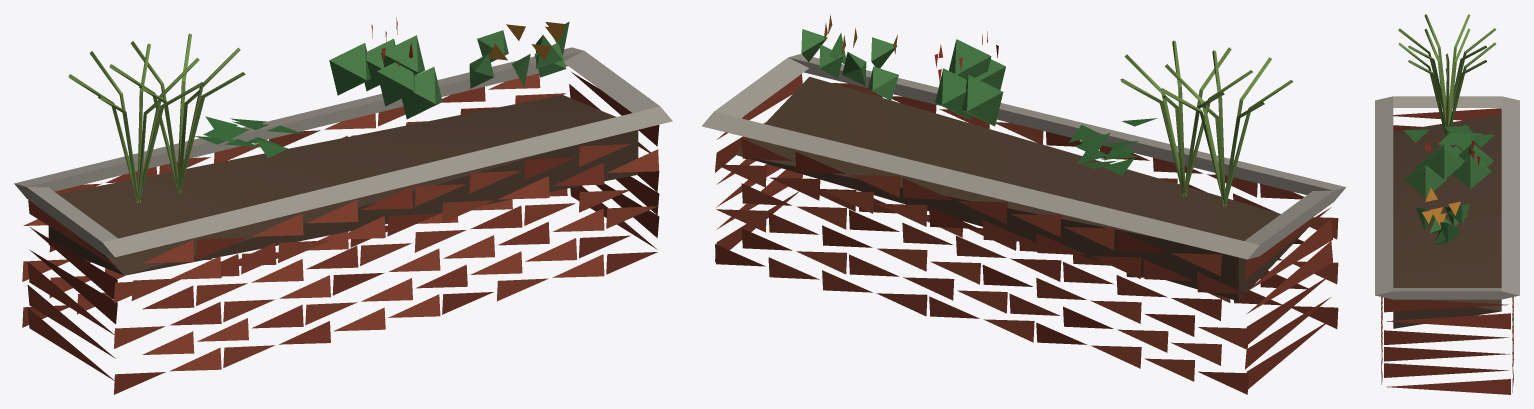
The model's file is bon_kieng.glb.
3 views of the same model, side by side, from view 1: azimuth 30°, elevation 25°; view 2: azimuth 150°, elevation 25°; view 3: azimuth 270°, elevation 25° (orthographic). The views are drawn at different scales.
Visible parts, largest first — view 1: bon_kieng; view 2: bon_kieng; view 3: bon_kieng.
Part boxes in pixels (x1,y1,x2,y2): bon_kieng: (14, 17, 672, 394); bon_kieng: (702, 14, 1346, 394); bon_kieng: (1375, 14, 1519, 394).
Size of the model in its own units: 2.04 by 0.954 by 0.64.
